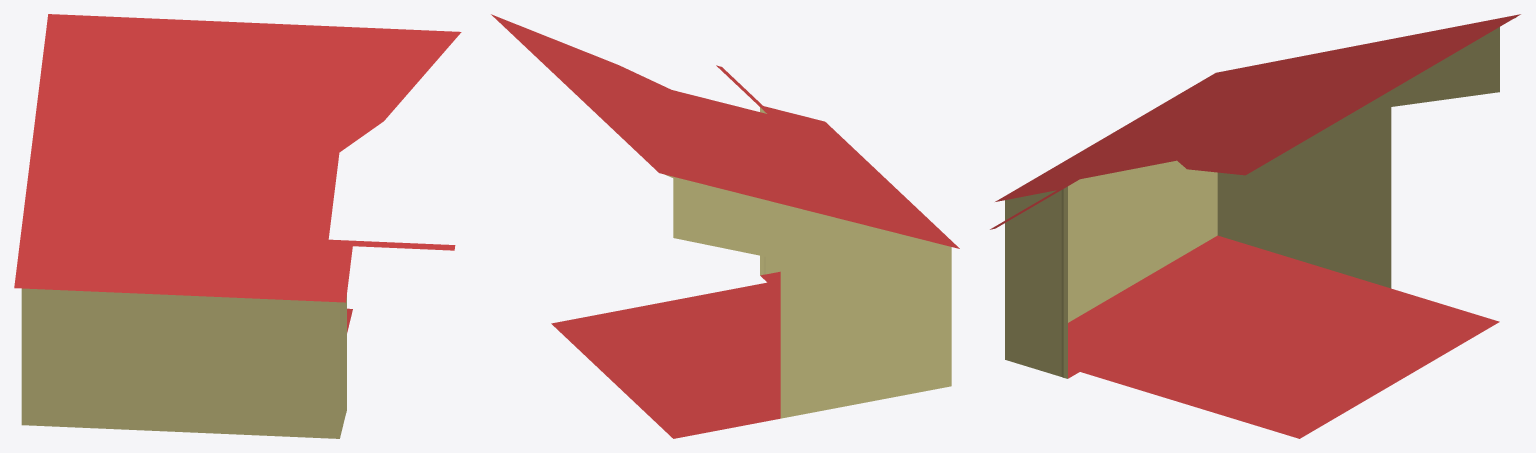
The picture shows the model from 3 angles, left to right: view 1: azimuth 30°, elevation 25°; view 2: azimuth 150°, elevation 25°; view 3: azimuth 270°, elevation 25°; orthographic projection. The views are drawn at different scales.
Bounding box in the file's own units: 19.76 × 17.44 × 11.22.
